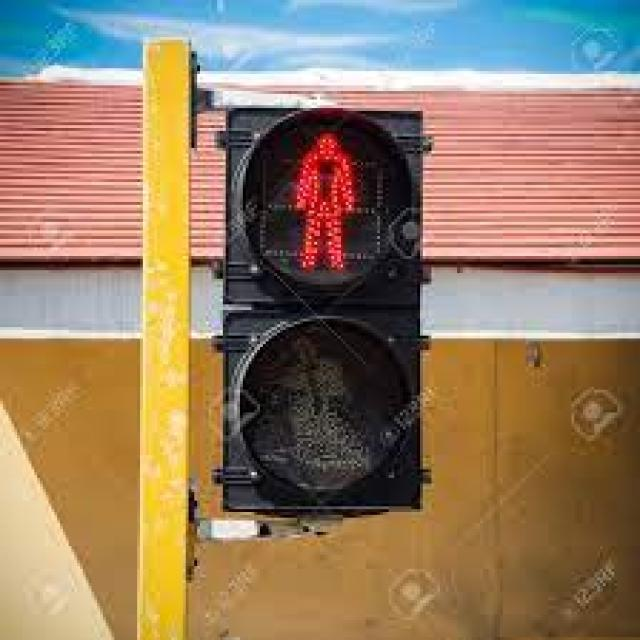red_light: (274, 125, 376, 278)
